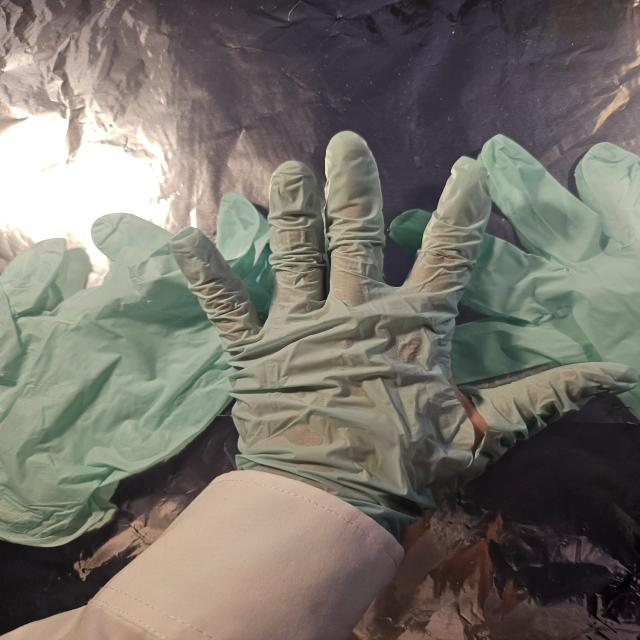gloves_damaged: (167, 131, 640, 520)
